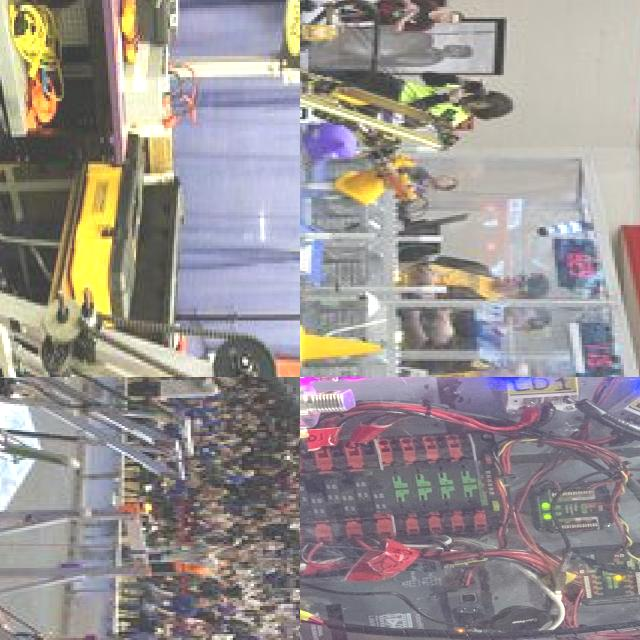FRC-Robots: (0, 52, 283, 377), (0, 440, 244, 640), (300, 0, 485, 183), (0, 377, 237, 476), (0, 573, 241, 640)
